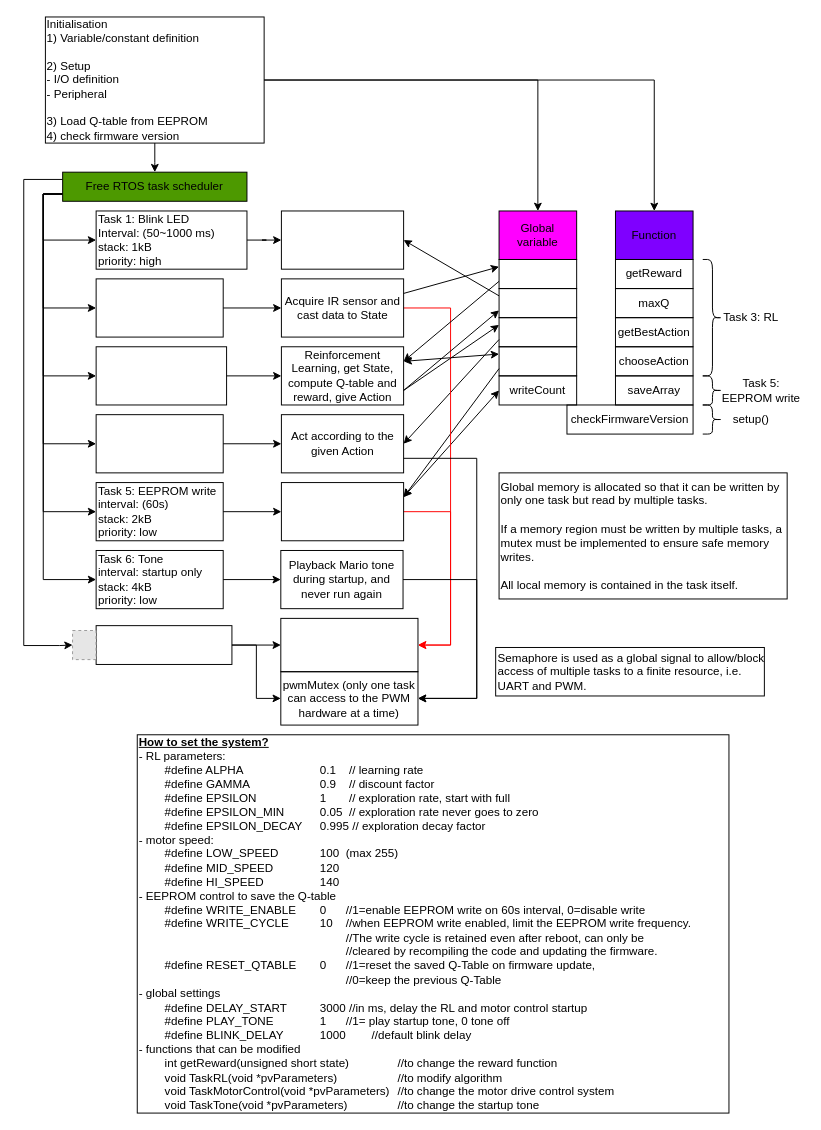
Image size: 821x1130. Some labels were removed from this diagram. Grey dashed boxes stand in for pictures. The box of each missing label's shape, as (x1, y1, x2, y2) in pixels:
Action: (498, 317, 577, 347)
epsilonBlink: (498, 288, 577, 318)
flash time becomes shorter as exploration rate decreases: (280, 210, 404, 269)
QT: (498, 346, 577, 376)
Save Q-table to EEPROM: (280, 482, 404, 541)
Semaphore (for resource sharing by multiple tasks): (95, 625, 232, 664)
serialMutex (only one task can access to the UART hardware at a time): (280, 617, 418, 672)
State: (498, 259, 577, 289)
Task 2: IR sensing interval: (10ms) stack: 2kB priority: high: (95, 278, 223, 337)
Task 3: RL interval: (100ms)+10ms stack: 4kB priority: high: (95, 346, 227, 405)
Task 4: Motor control interval: (10ms) stack: 2kB priority: medium: (95, 414, 223, 473)
